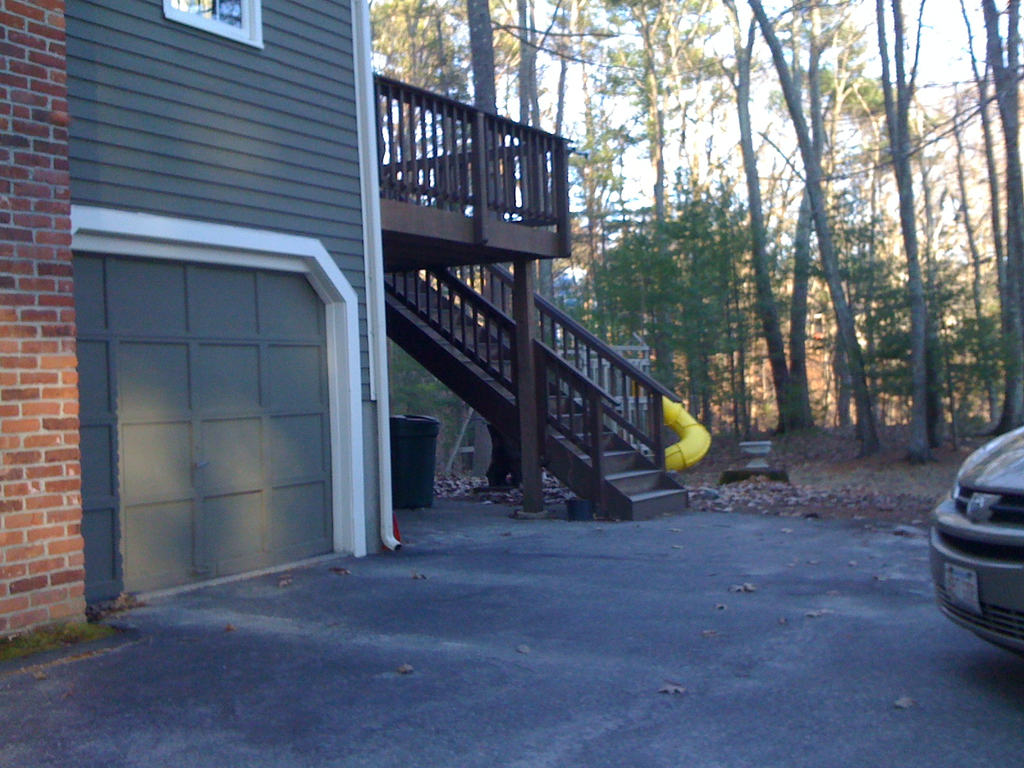cars: (925, 427, 1023, 654)
